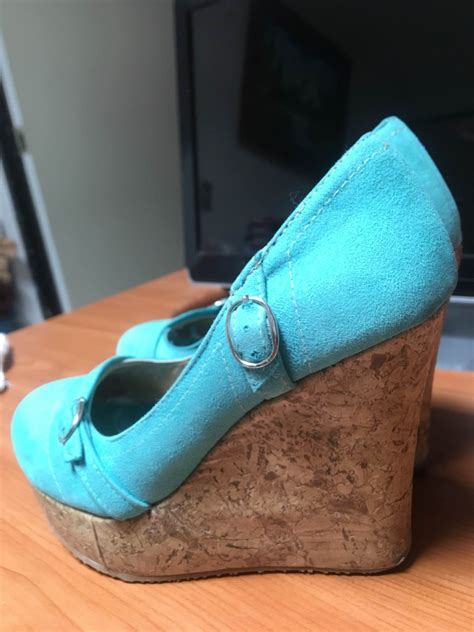gamuza: (7, 112, 462, 520)
